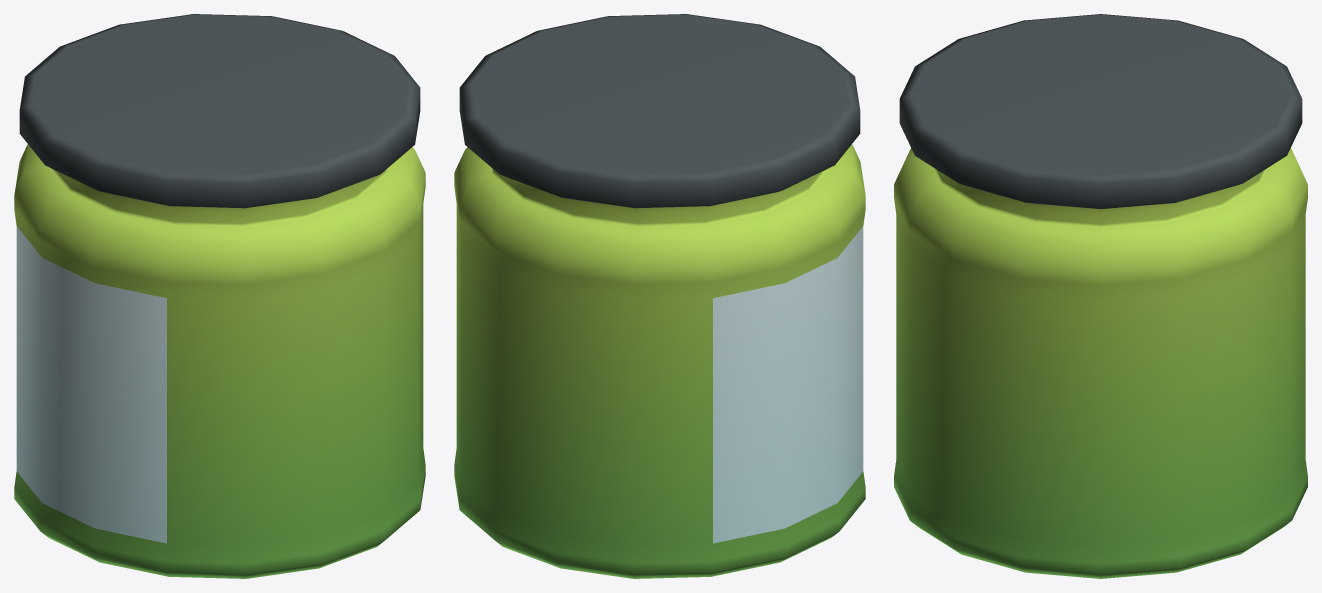
Rendered from Pesto.fbx.
The picture shows the model from 3 angles, left to right: view 1: azimuth 30°, elevation 25°; view 2: azimuth 150°, elevation 25°; view 3: azimuth 270°, elevation 25°; orthographic projection.
Parts seen in each view (by area): view 1: Pesto; view 2: Pesto; view 3: Pesto.
Boxes of the visible parts, x1,y1,x2,y2 form: Pesto: (14,14,425,578); Pesto: (454,14,865,578); Pesto: (894,14,1307,578).
Size of the model in its own units: 11 by 11.75 by 11.
Materials: 1 (1 with a texture image).
